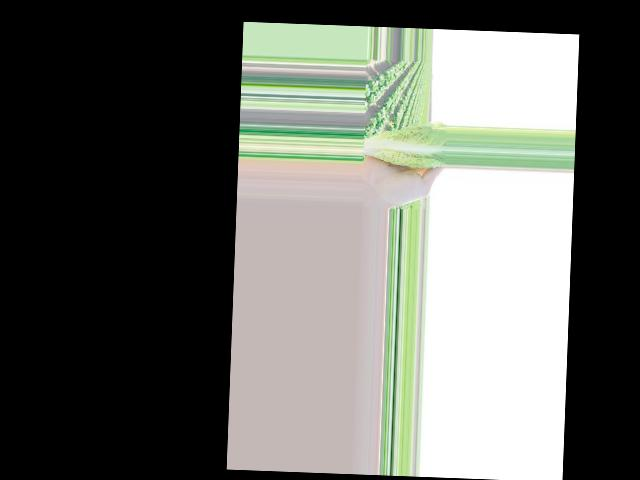lettuce: (338, 95, 430, 207)
